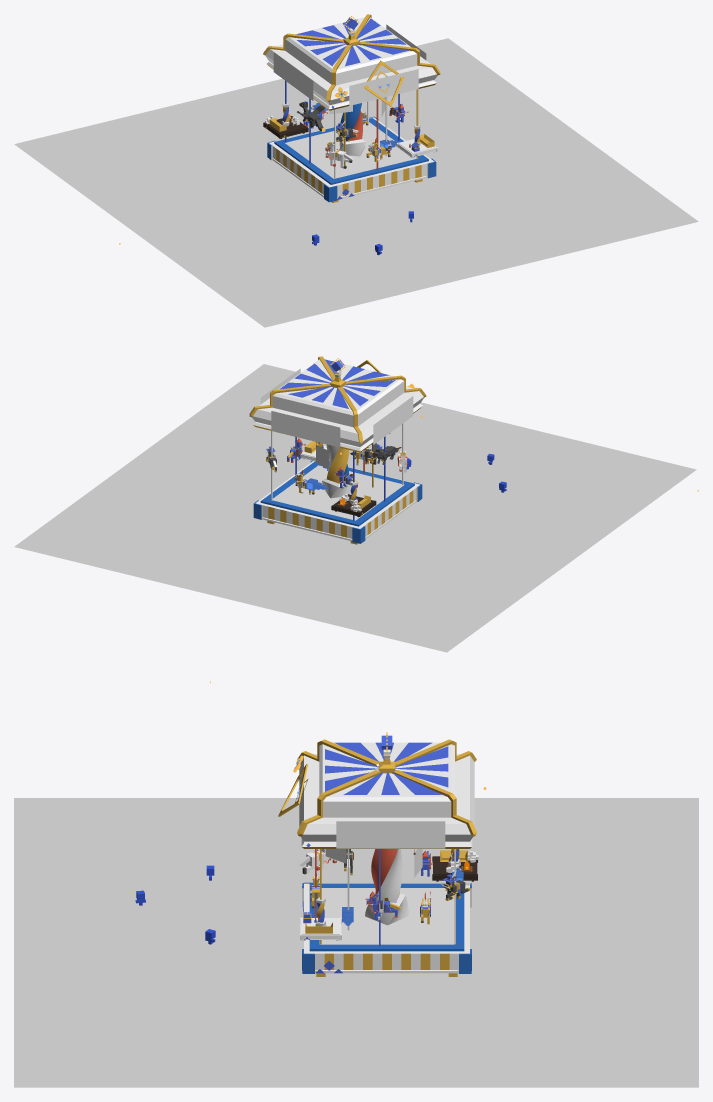
The model's file is Cubespin.glb.
The picture shows the model from 3 angles, top to bottom: view 1: azimuth 30°, elevation 25°; view 2: azimuth 150°, elevation 25°; view 3: azimuth 270°, elevation 25°; orthographic projection. The views are drawn at different scales.
Parts seen in each view (by area): view 1: Plane.023, Cube, Cube.002, Cube.020, horses, Cube.053, horses.003; view 2: Plane.023, Cube, Cube.002, Cube.020, horses.001, Cube.053, horses.003; view 3: Plane.023, Cube.002, Cube, Cube.020, horses.002, Cube.053, Cube.087.
Part boxes in pixels (x1=…): Plane.023: x1=14, y1=38, x2=698, y2=327; Cube: x1=267, y1=116, x2=436, y2=202; Cube.002: x1=263, y1=14, x2=440, y2=110; Cube.020: x1=297, y1=18, x2=409, y2=66; horses: x1=349, y1=69, x2=418, y2=105; Cube.053: x1=337, y1=103, x2=365, y2=156; horses.003: x1=273, y1=52, x2=313, y2=100; Plane.023: x1=14, y1=364, x2=696, y2=652; Cube: x1=253, y1=460, x2=422, y2=544; Cube.002: x1=249, y1=356, x2=426, y2=452; Cube.020: x1=280, y1=359, x2=395, y2=408; horses.001: x1=271, y1=411, x2=340, y2=447; Cube.053: x1=322, y1=444, x2=351, y2=498; horses.003: x1=373, y1=396, x2=413, y2=444; Plane.023: x1=14, y1=798, x2=698, y2=1087; Cube.002: x1=297, y1=739, x2=476, y2=848; Cube: x1=302, y1=882, x2=471, y2=976; Cube.020: x1=325, y1=742, x2=448, y2=794; horses.002: x1=336, y1=821, x2=445, y2=848; Cube.053: x1=365, y1=849, x2=408, y2=925; Cube.087: x1=300, y1=917, x2=341, y2=940.
Bounding box in the file's own units: 52.69 × 16.15 × 45.04.
Materials: 31 (5 with a texture image).
